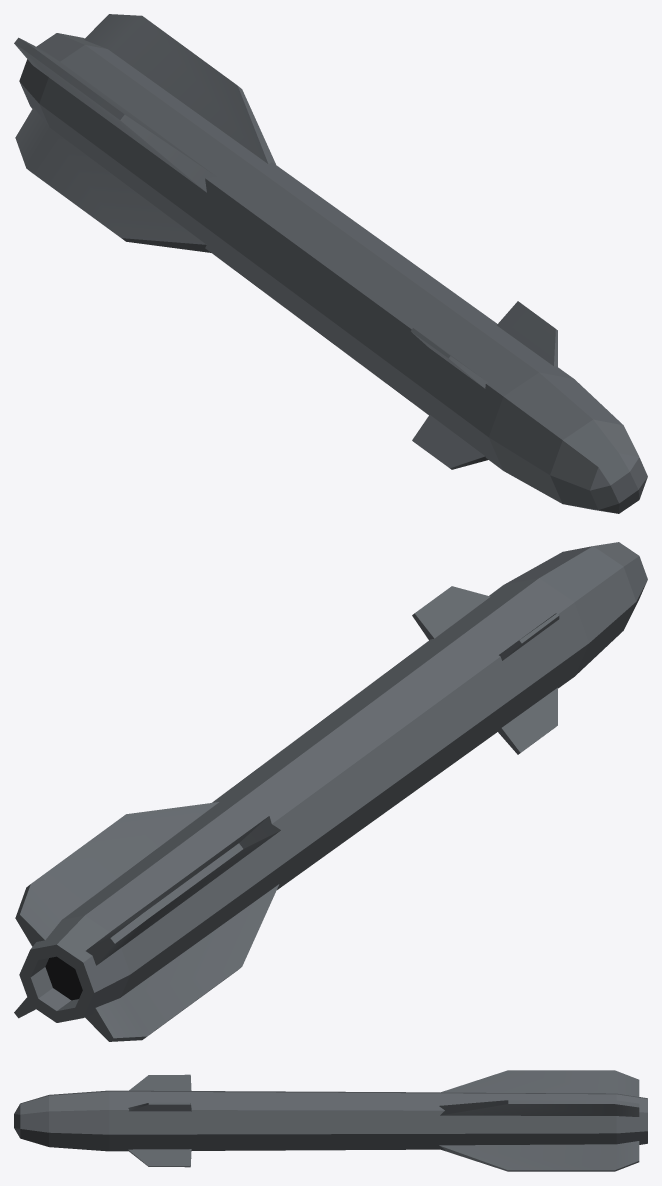
The model's file is SM_Prop_Missle_01.fbx.
3 renders of one model, top to bottom at view 1: azimuth 30°, elevation 25°; view 2: azimuth 150°, elevation 25°; view 3: azimuth 270°, elevation 25°, orthographic. The views are drawn at different scales.
Parts seen in each view (by area): view 1: SM_Prop_Missle_01; view 2: SM_Prop_Missle_01; view 3: SM_Prop_Missle_01.
Part boxes in pixels (x1,y1,x2,y2): SM_Prop_Missle_01: (14, 14, 647, 513); SM_Prop_Missle_01: (14, 542, 647, 1041); SM_Prop_Missle_01: (14, 1070, 647, 1171).
Size of the model in its own units: 16.75 by 16.75 by 134.
